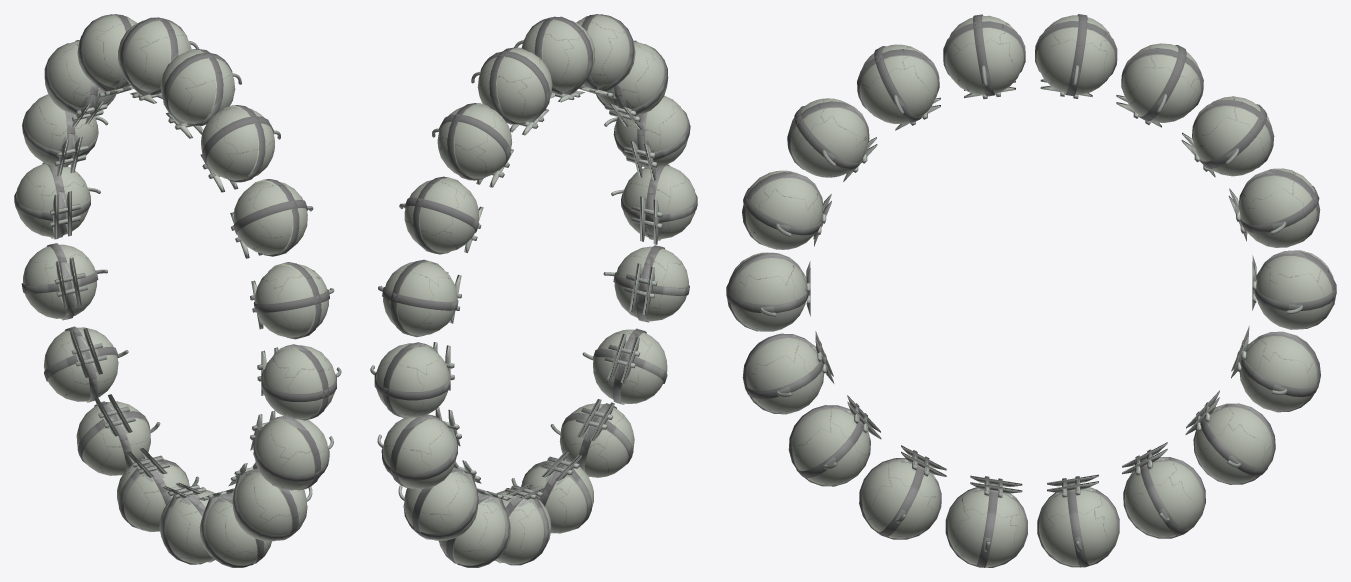
File: FuelTAnks.fbx
The picture shows the model from 3 angles, left to right: view 1: azimuth 30°, elevation 25°; view 2: azimuth 150°, elevation 25°; view 3: azimuth 270°, elevation 25°; orthographic projection. The views are drawn at different scales.
Parts seen in each view (by area): view 1: Empty_Mesh; view 2: Empty_Mesh; view 3: Empty_Mesh.
Boxes of the visible parts, left/top/right/bottom form: Empty_Mesh: left=14, top=14, right=341, bottom=567; Empty_Mesh: left=370, top=14, right=697, bottom=567; Empty_Mesh: left=726, top=14, right=1336, bottom=567.
Bounding box in the file's own units: 0.8863 × 5.57 × 5.64.
